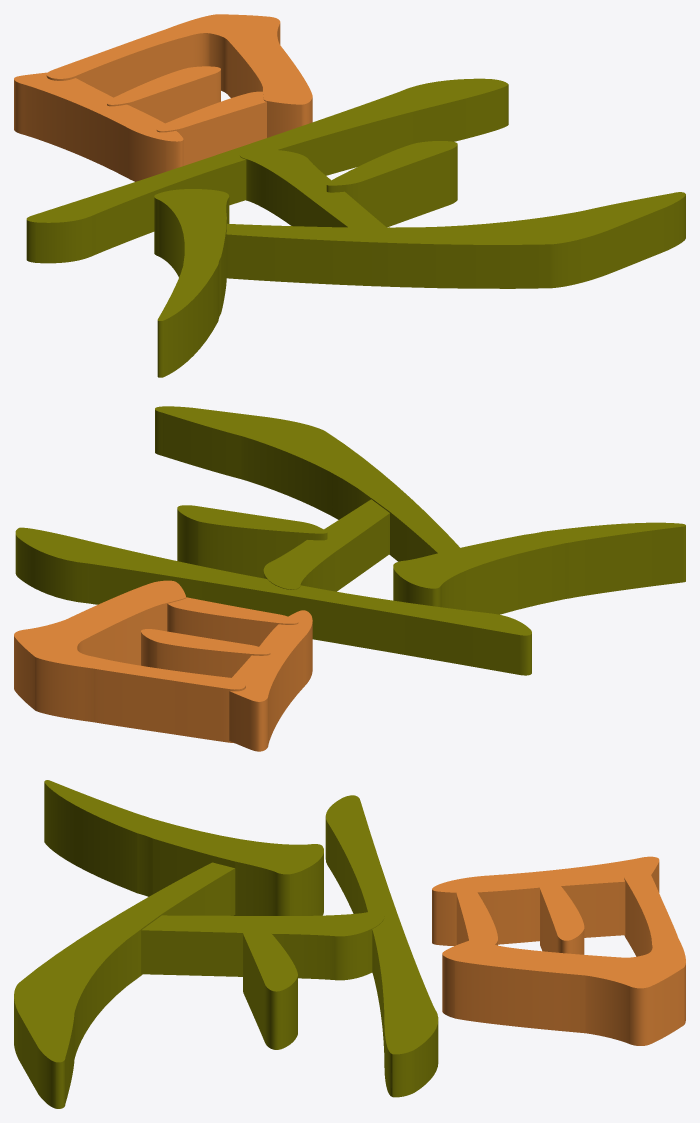
The model's file is hanzi163.fbx.
3 views of the same model, one above another, from view 1: azimuth 30°, elevation 25°; view 2: azimuth 150°, elevation 25°; view 3: azimuth 270°, elevation 25° (orthographic). The views are drawn at different scales.
Visible parts, largest first — view 1: Curve.008, Curve.004, Curve.001, Curve, Curve.007, Curve.006, Curve.005, Curve.003, Curve.002; view 2: Curve.004, Curve.001, Curve.007, Curve.008, Curve.006, Curve, Curve.005, Curve.002, Curve.003; view 3: Curve.001, Curve.007, Curve.008, Curve.004, Curve.005, Curve, Curve.006, Curve.002, Curve.003.
Part boxes in pixels (x1=…): Curve.008: x1=226, y1=192, x2=685, y2=288; Curve.004: x1=26, y1=78, x2=508, y2=263; Curve.001: x1=46, y1=14, x2=312, y2=137; Curve: x1=14, y1=72, x2=183, y2=181; Curve.007: x1=154, y1=189, x2=229, y2=377; Curve.006: x1=326, y1=141, x2=457, y2=227; Curve.005: x1=239, y1=149, x2=386, y2=227; Curve.003: x1=156, y1=91, x2=266, y2=165; Curve.002: x1=107, y1=66, x2=220, y2=123; Curve.004: x1=15, y1=527, x2=531, y2=675; Curve.001: x1=14, y1=580, x2=245, y2=743; Curve.007: x1=393, y1=522, x2=685, y2=614; Curve.008: x1=155, y1=406, x2=459, y2=561; Curve.006: x1=177, y1=505, x2=327, y2=578; Curve: x1=229, y1=610, x2=312, y2=751; Curve.005: x1=263, y1=499, x2=389, y2=591; Curve.002: x1=141, y1=629, x2=270, y2=677; Curve.003: x1=167, y1=597, x2=298, y2=646; Curve.001: x1=442, y1=868, x2=685, y2=1045; Curve.007: x1=44, y1=780, x2=323, y2=915; Curve.008: x1=14, y1=862, x2=235, y2=1108; Curve.004: x1=325, y1=795, x2=438, y2=1097; Curve.005: x1=141, y1=911, x2=384, y2=980; Curve: x1=432, y1=856, x2=659, y2=945; Curve.006: x1=243, y1=918, x2=297, y2=1049; Curve.002: x1=540, y1=878, x2=584, y2=954; Curve.003: x1=456, y1=883, x2=497, y2=945.
Size of the model in its own units: 22.56 by 23.24 by 2.29.
